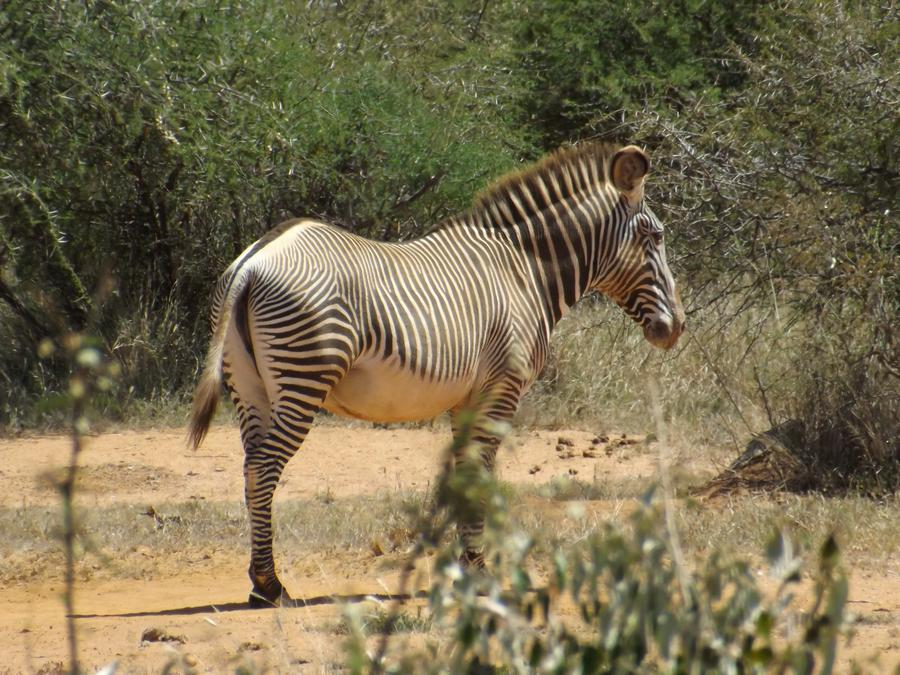zebra_grevys: (204, 187, 519, 415)
